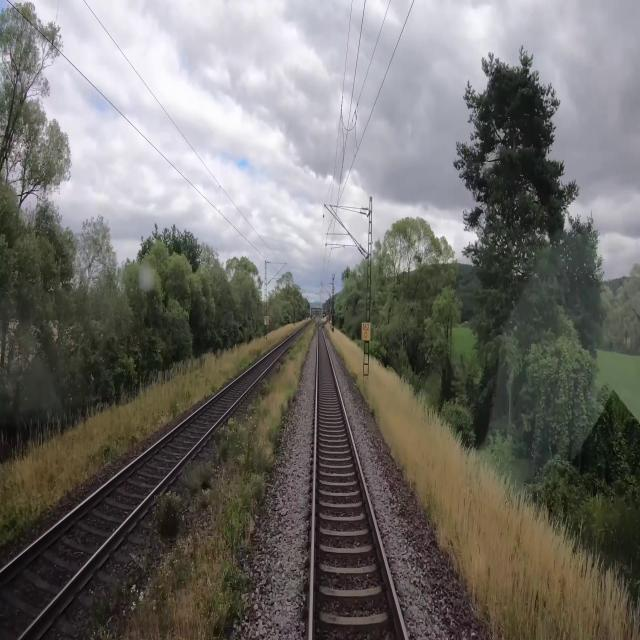Plant: (90, 321, 317, 639)
